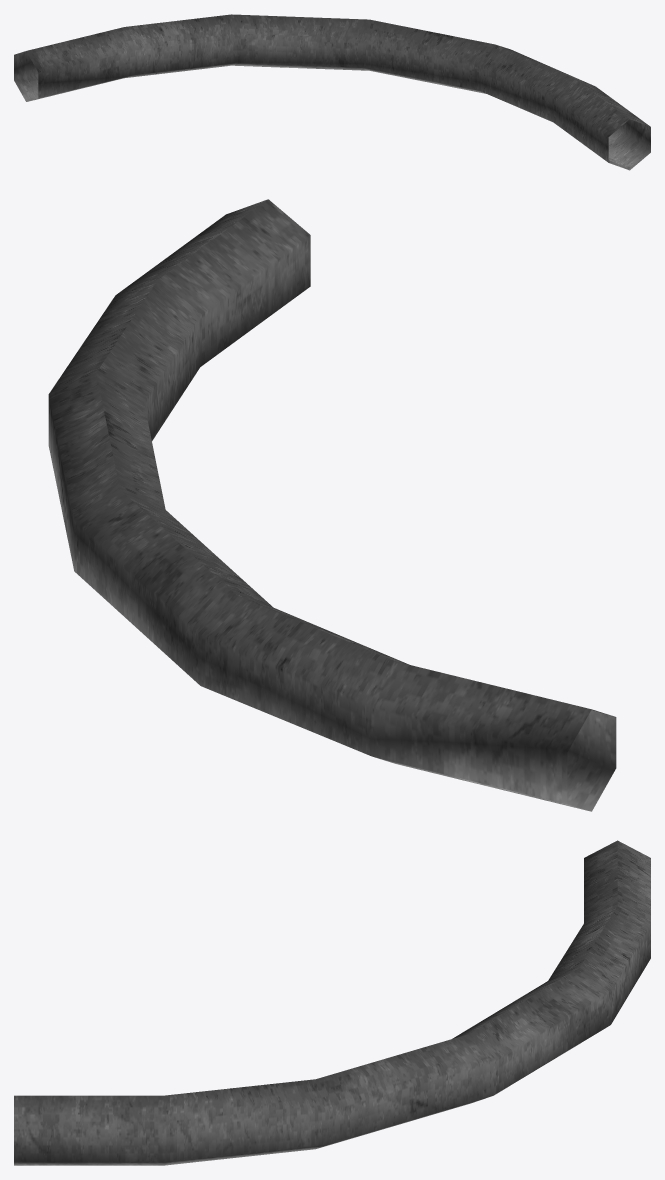
The model's file is railing_ceiling_bend_short_nosupport.dae.
3 renders of one model, top to bottom at view 1: azimuth 30°, elevation 25°; view 2: azimuth 150°, elevation 25°; view 3: azimuth 270°, elevation 25°, orthographic. The views are drawn at different scales.
Parts seen in each view (by area): view 1: polySurface644; view 2: polySurface644; view 3: polySurface644.
Part boxes in pixels (x1=…): polySurface644: x1=14, y1=14, x2=650, y2=170; polySurface644: x1=48, y1=199, x2=616, y2=811; polySurface644: x1=14, y1=840, x2=650, y2=1165.
Size of the model in its own units: 106 by 12.8 by 106.
